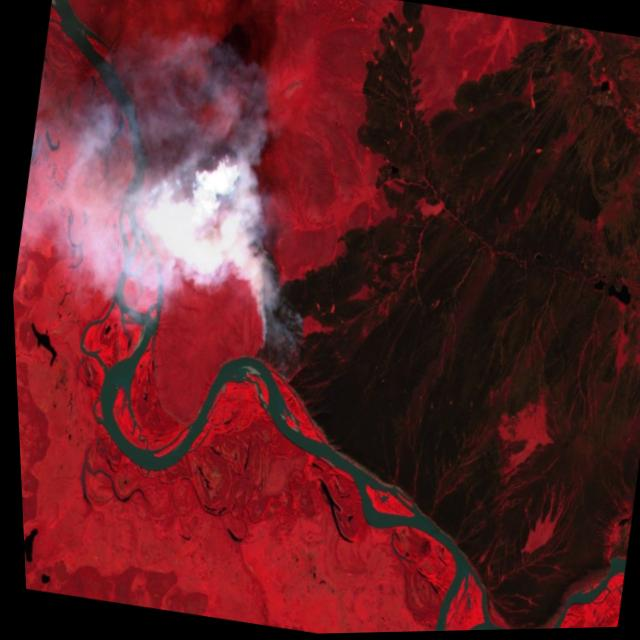fire: (212, 229, 327, 396)
